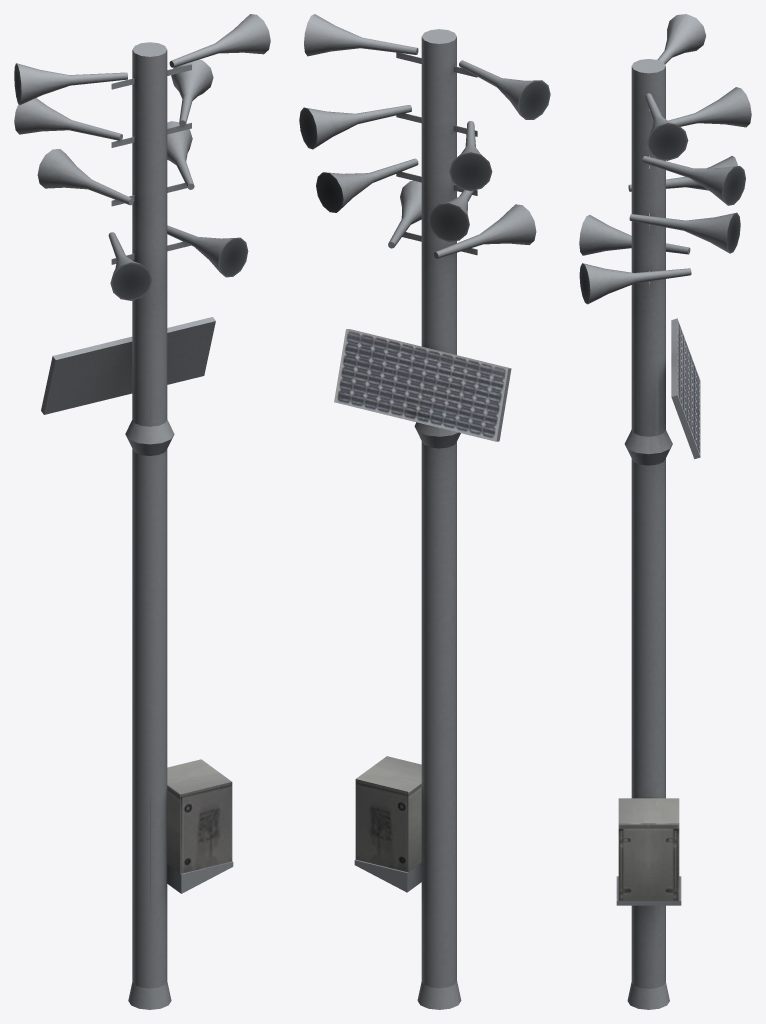
File: disasterAlert.gltf
3 renders of one model, left to right at view 1: azimuth 30°, elevation 25°; view 2: azimuth 150°, elevation 25°; view 3: azimuth 270°, elevation 25°, orthographic. The views are drawn at different scales.
Visible parts, largest first — view 1: disasterAlert; view 2: disasterAlert; view 3: disasterAlert.
Boxes of the visible parts, x1,y1,x2,y2 form: disasterAlert: (14,14,270,1009); disasterAlert: (299,14,550,1009); disasterAlert: (579,14,751,1009).
Bounding box in the file's own units: 14.56 × 55.36 × 9.26.
Materials: 1 (1 with a texture image).
